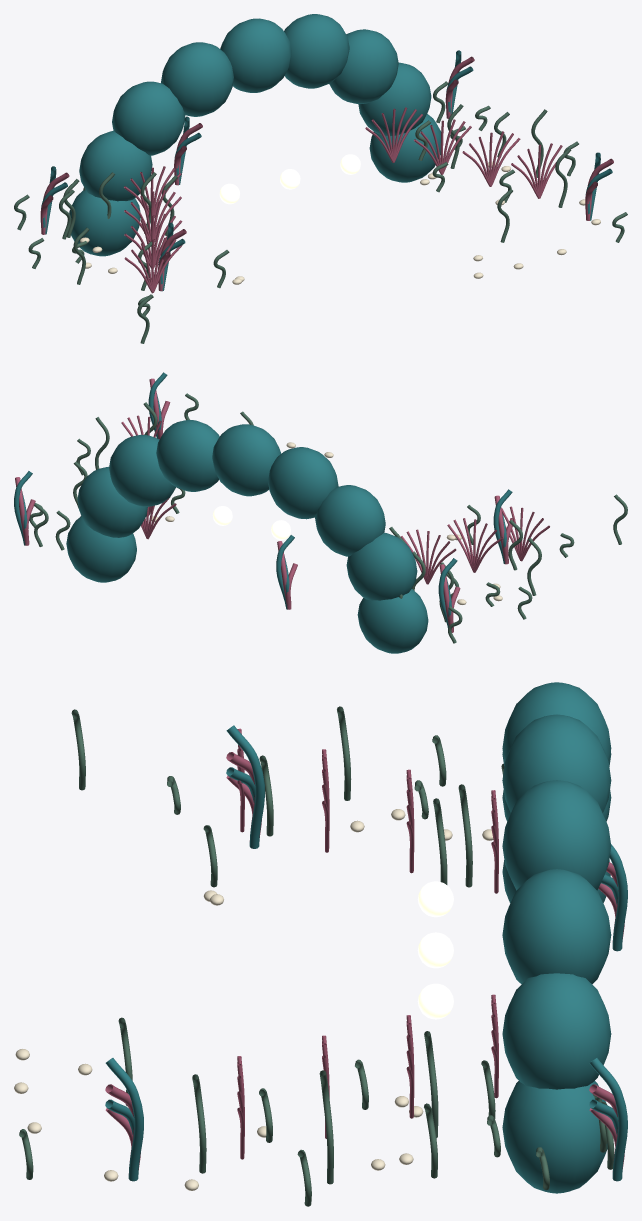
The model's file is mer_grotto-gzDG_cuB.glb.
3 views of the same model, one above another, from view 1: azimuth 30°, elevation 25°; view 2: azimuth 150°, elevation 25°; view 3: azimuth 270°, elevation 25° (orthographic). The views are drawn at different scales.
Parts seen in each view (by area): view 1: world_Story primary.001, world_rose.001, world_leafdark.001, FX_shellbridge_Bridge pearl, world_cream.001; view 2: world_Story primary.001, world_rose.001, world_leafdark.001, FX_shellbridge_Bridge pearl; view 3: world_Story primary.001, world_leafdark.001, world_rose.001, FX_shellbridge_Bridge pearl, world_cream.001.
Part boxes in pixels (x1,y1,x2,y2): world_Story primary.001: [41, 14, 612, 291]; world_rose.001: [40, 56, 613, 293]; world_leafdark.001: [14, 81, 627, 343]; FX_shellbridge_Bridge pearl: [219, 154, 360, 204]; world_cream.001: [80, 161, 600, 284]; world_Story primary.001: [14, 372, 512, 653]; world_rose.001: [15, 378, 549, 632]; world_leafdark.001: [29, 393, 627, 643]; FX_shellbridge_Bridge pearl: [212, 506, 338, 554]; world_Story primary.001: [105, 682, 627, 1193]; world_leafdark.001: [19, 706, 614, 1206]; world_rose.001: [105, 728, 624, 1171]; FX_shellbridge_Bridge pearl: [417, 881, 453, 1019]; world_cream.001: [14, 809, 493, 1190].
Size of what is drawn, in the model's own units: 16.92 by 6.2 by 10.15.
